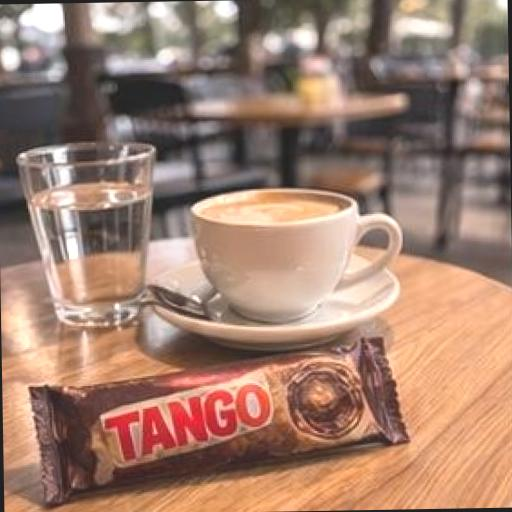tango: (16, 351, 449, 512)
